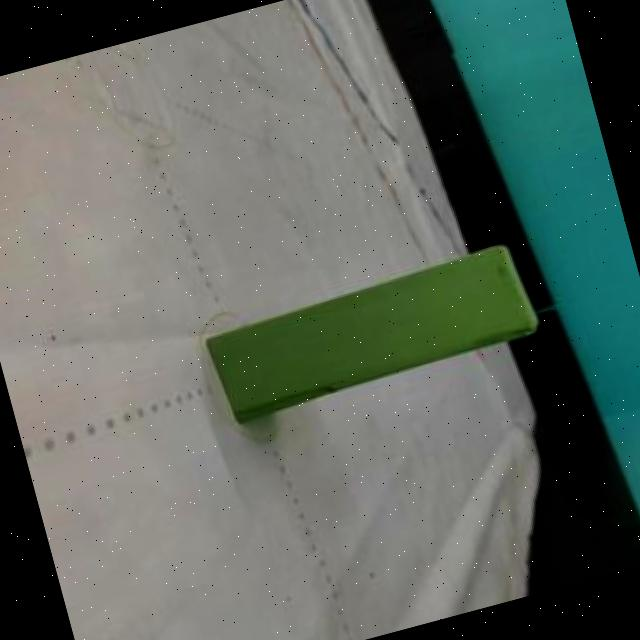greenbox: (192, 235, 546, 424)
